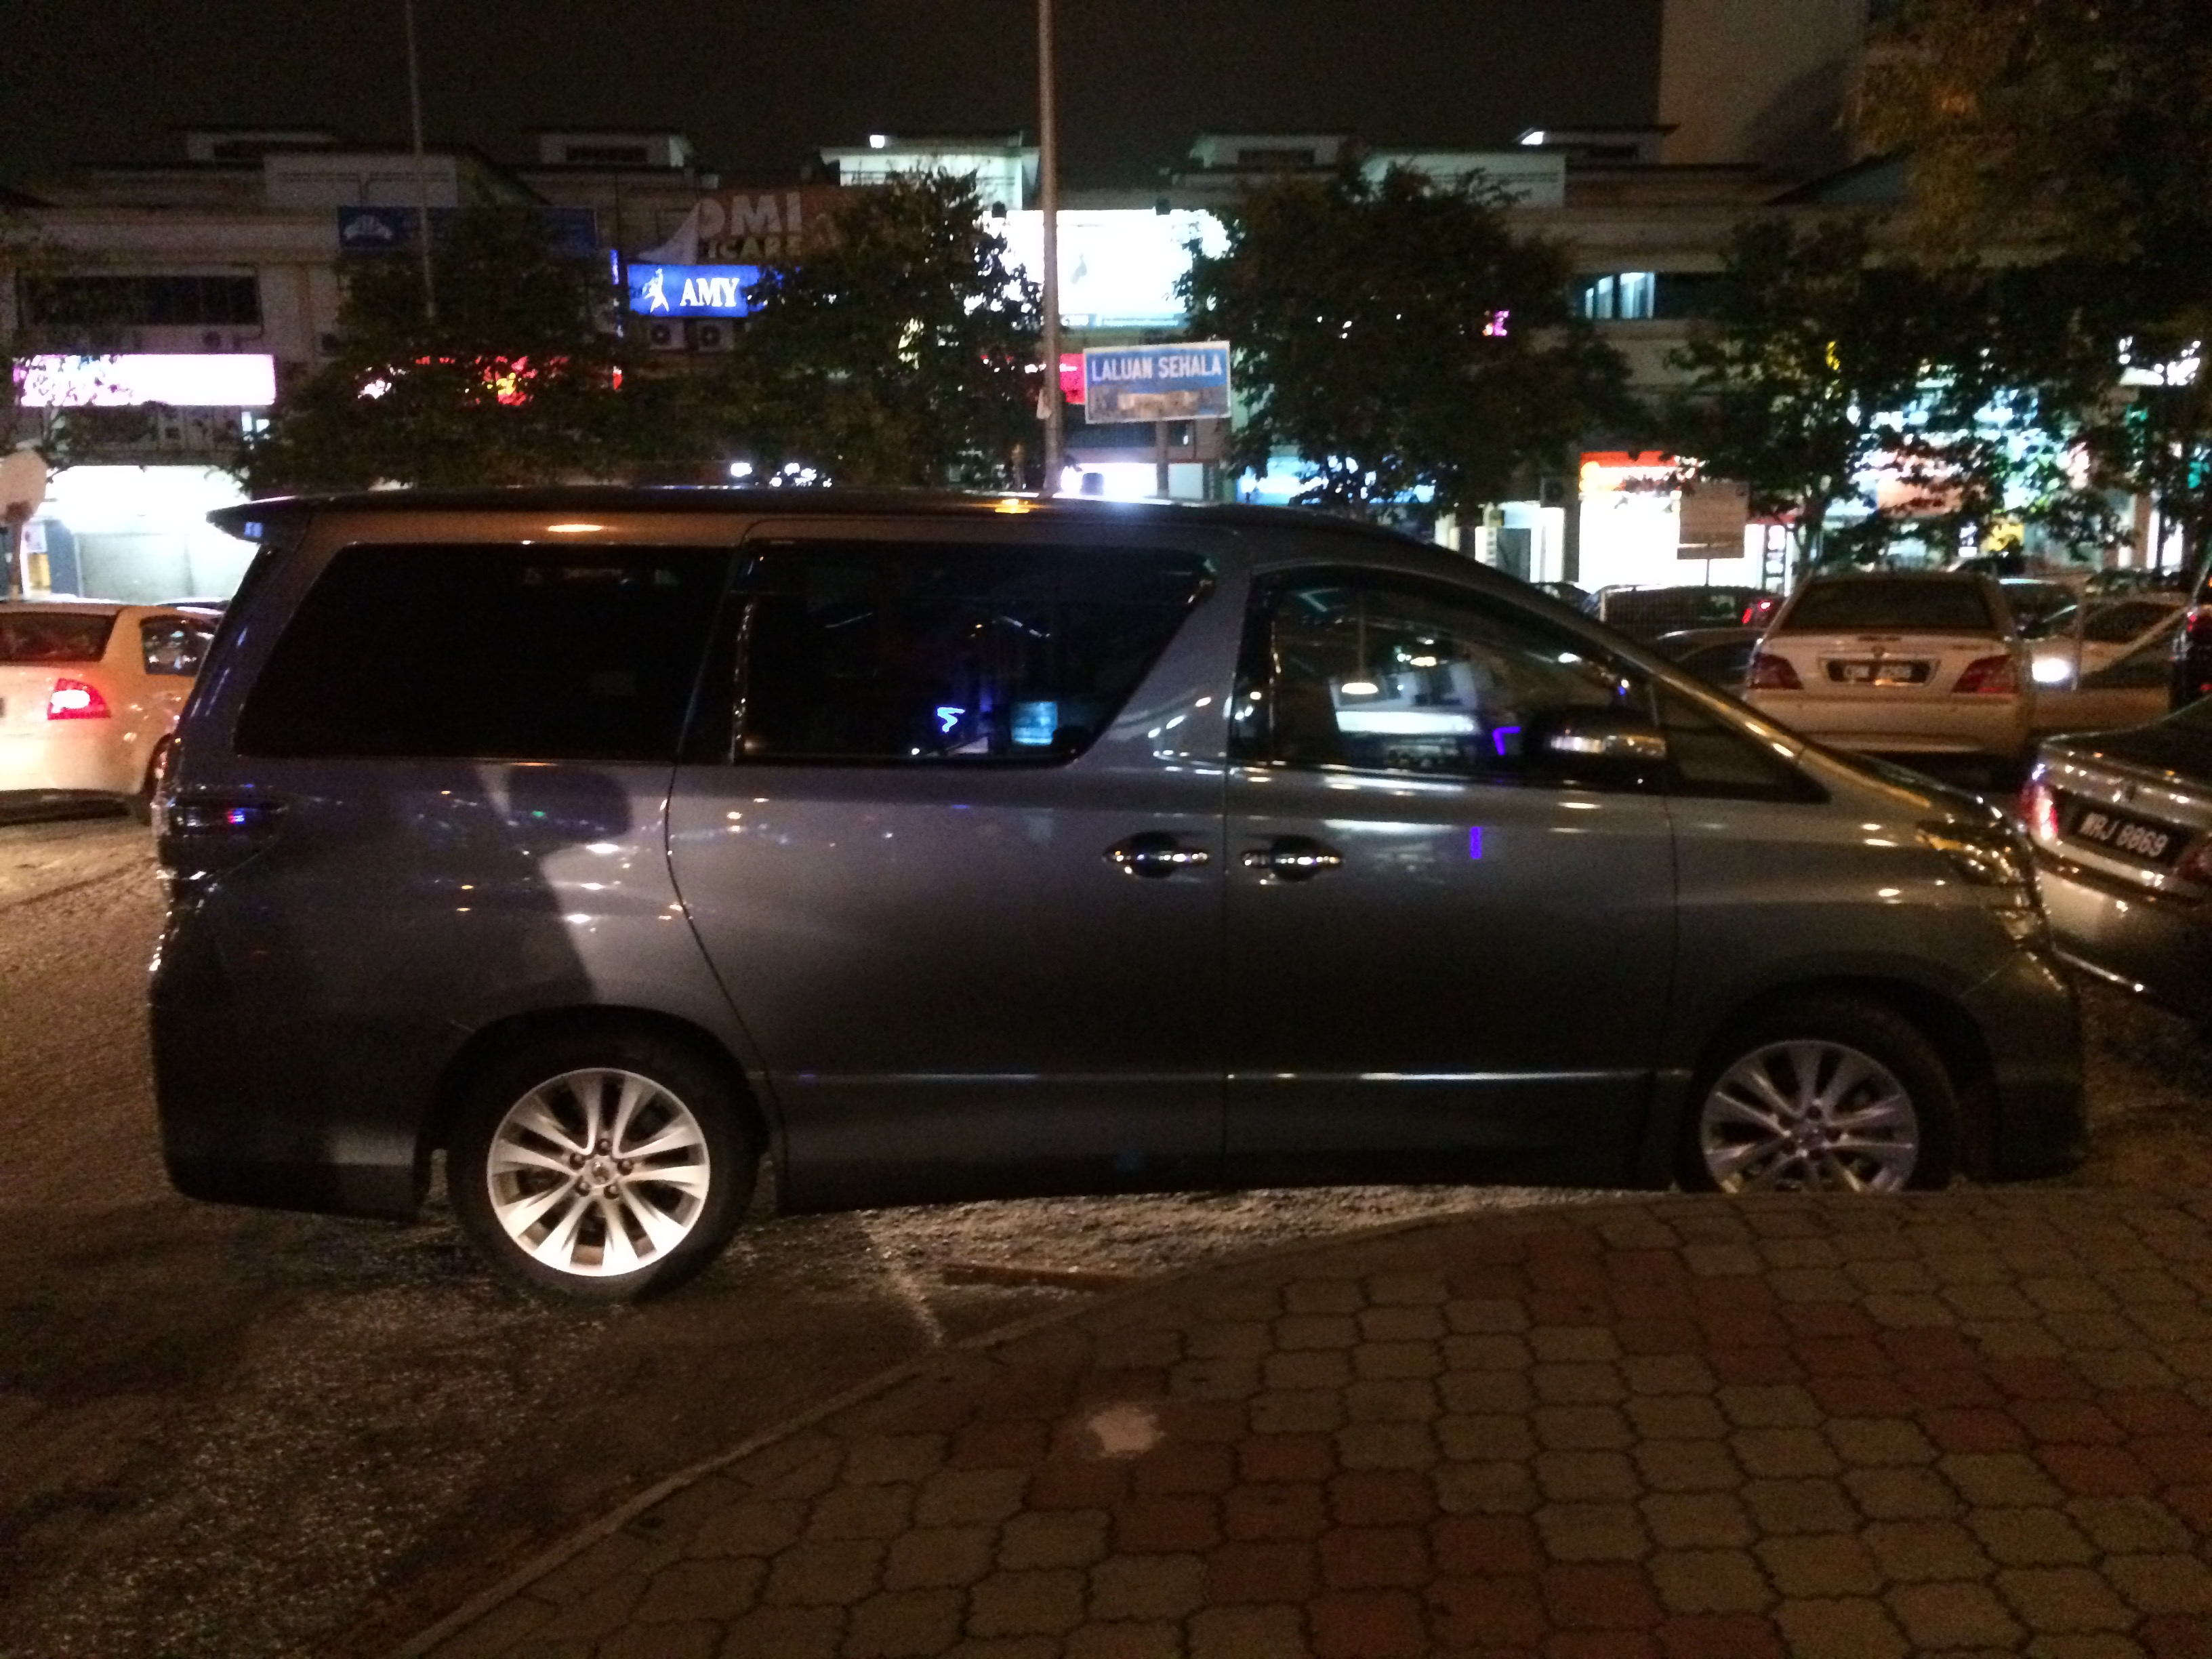car: (118, 444, 2113, 1302)
